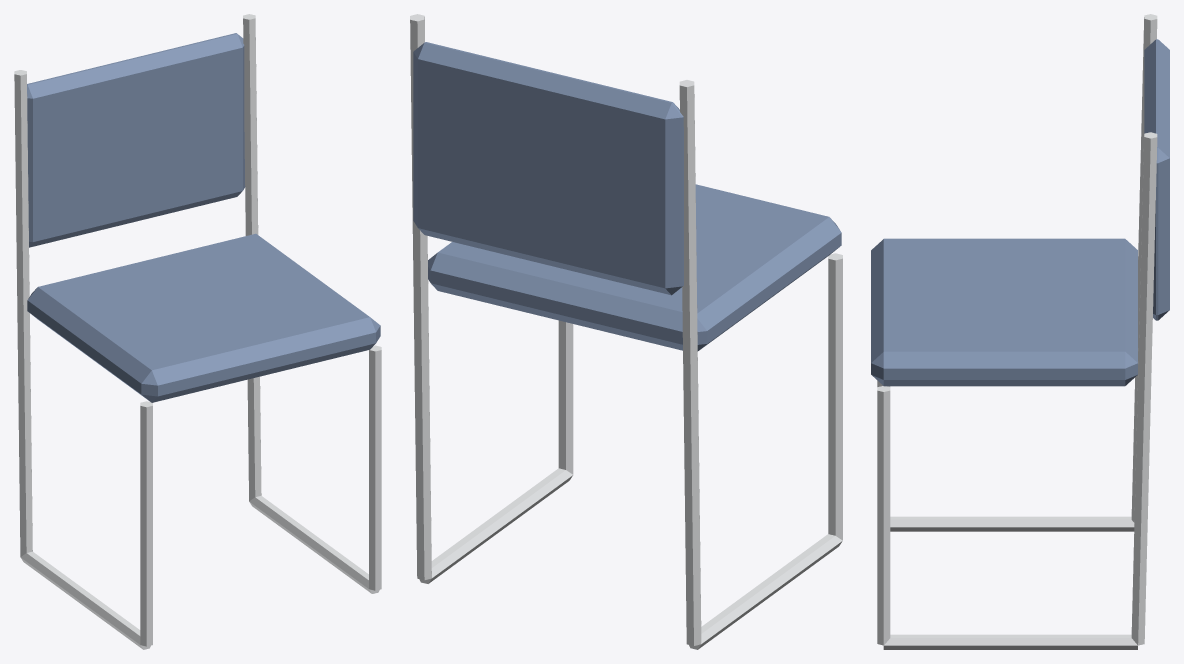
The model's file is guest_chair.glb.
The picture shows the model from 3 angles, left to right: view 1: azimuth 30°, elevation 25°; view 2: azimuth 150°, elevation 25°; view 3: azimuth 270°, elevation 25°; orthographic projection. The views are drawn at different scales.
Visible parts, largest first — view 1: guest_chair_vinyl_b, guest_chair_chrome; view 2: guest_chair_vinyl_b, guest_chair_chrome; view 3: guest_chair_vinyl_b, guest_chair_chrome.
Boxes of the visible parts, left/top/right/bottom form: guest_chair_vinyl_b: left=27, top=33, right=380, bottom=402; guest_chair_chrome: left=14, top=14, right=381, bottom=649; guest_chair_vinyl_b: left=413, top=42, right=841, bottom=351; guest_chair_chrome: left=410, top=14, right=842, bottom=649; guest_chair_vinyl_b: left=871, top=39, right=1169, bottom=386; guest_chair_chrome: left=877, top=14, right=1157, bottom=649.
Bounding box in the file's own units: 0.464 × 0.8906 × 0.47.
